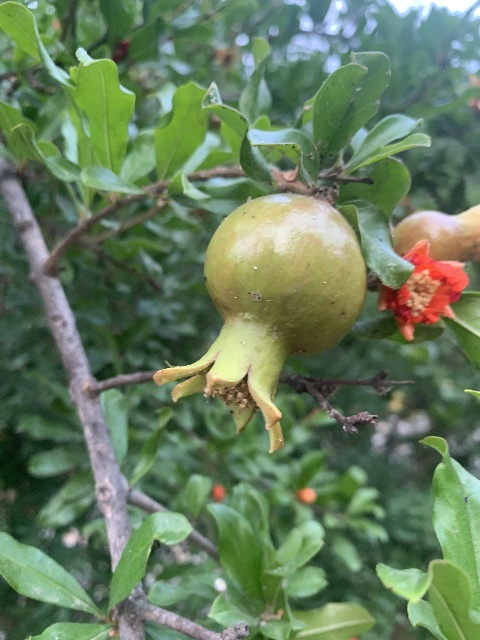bud: (296, 487, 316, 504)
early-fruit: (391, 203, 480, 260)
flower: (377, 239, 467, 340)
mid-growth: (153, 193, 366, 452)
